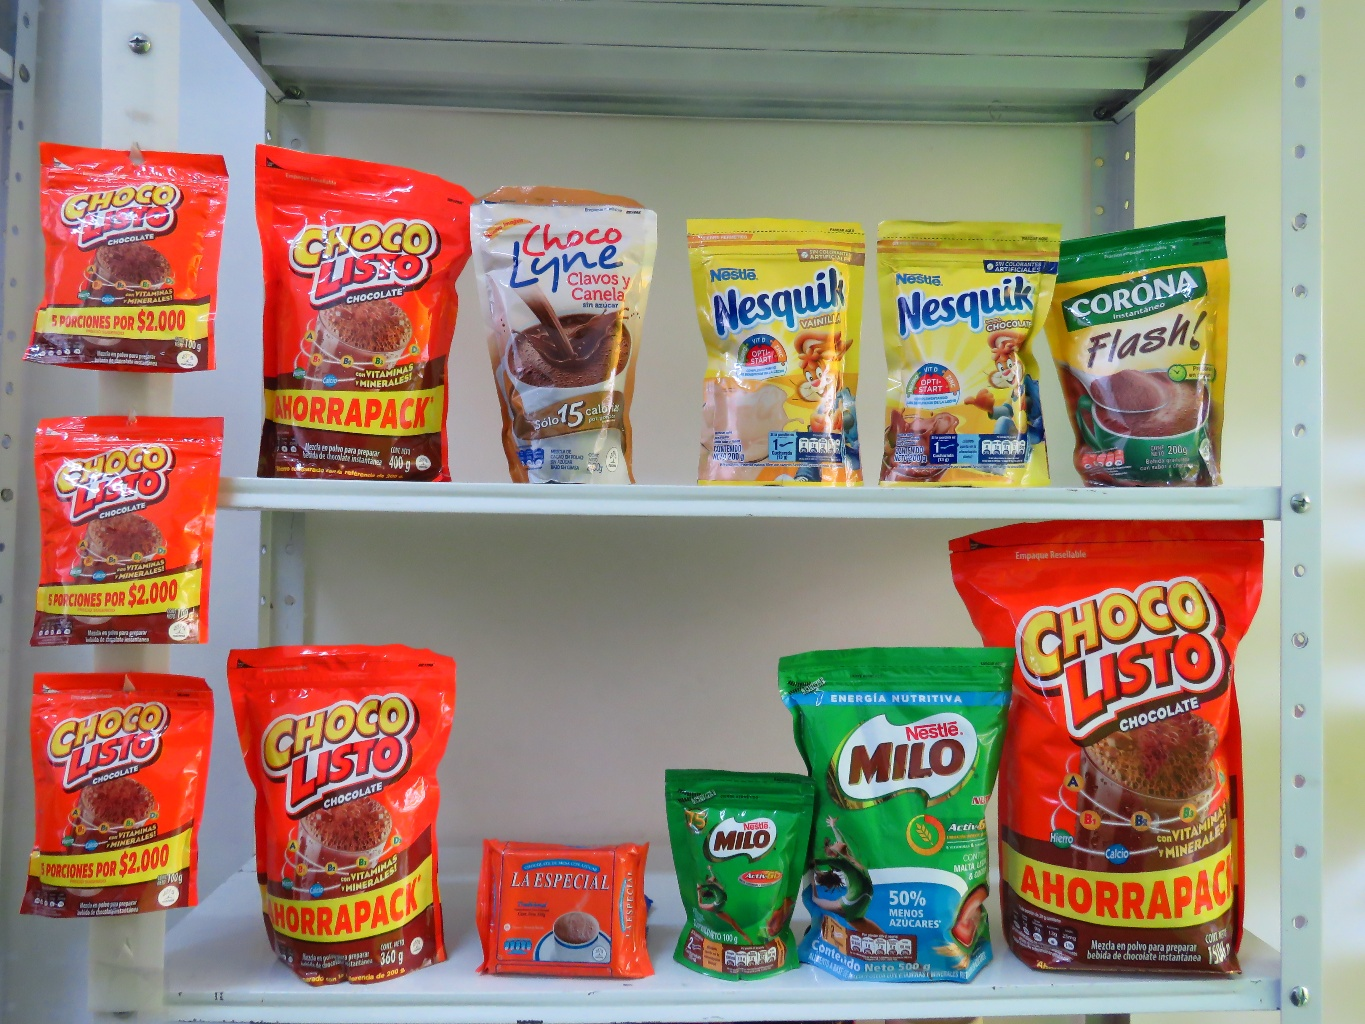COL0170103DYP1,500: (965, 514, 1275, 982)
COL0170103DYP10000: (12, 671, 216, 920)
COL0170103DYP36000: (212, 618, 473, 982)
COL0170103DYP40000: (239, 144, 446, 475)
COL0170203DYP10000: (652, 760, 805, 975)
COL0170205DYP50000: (784, 644, 1024, 980)
COL0170303DYP20000: (882, 221, 1048, 475)
COL0170306DYP20000: (689, 212, 869, 486)
